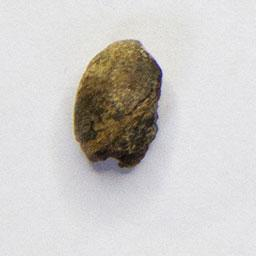defect: (70, 36, 165, 170)
